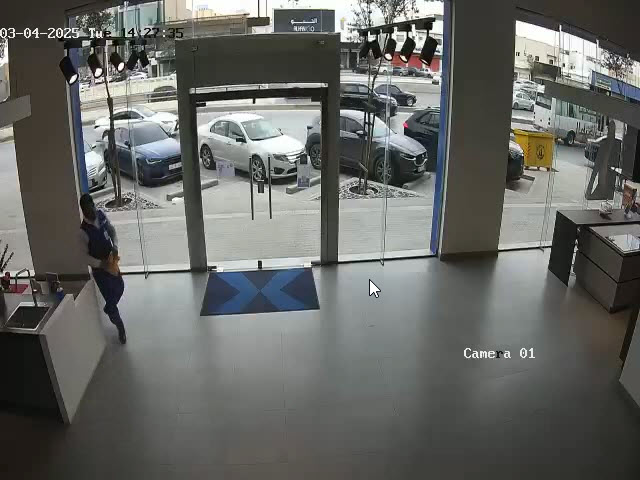employee: (78, 192, 127, 345)
